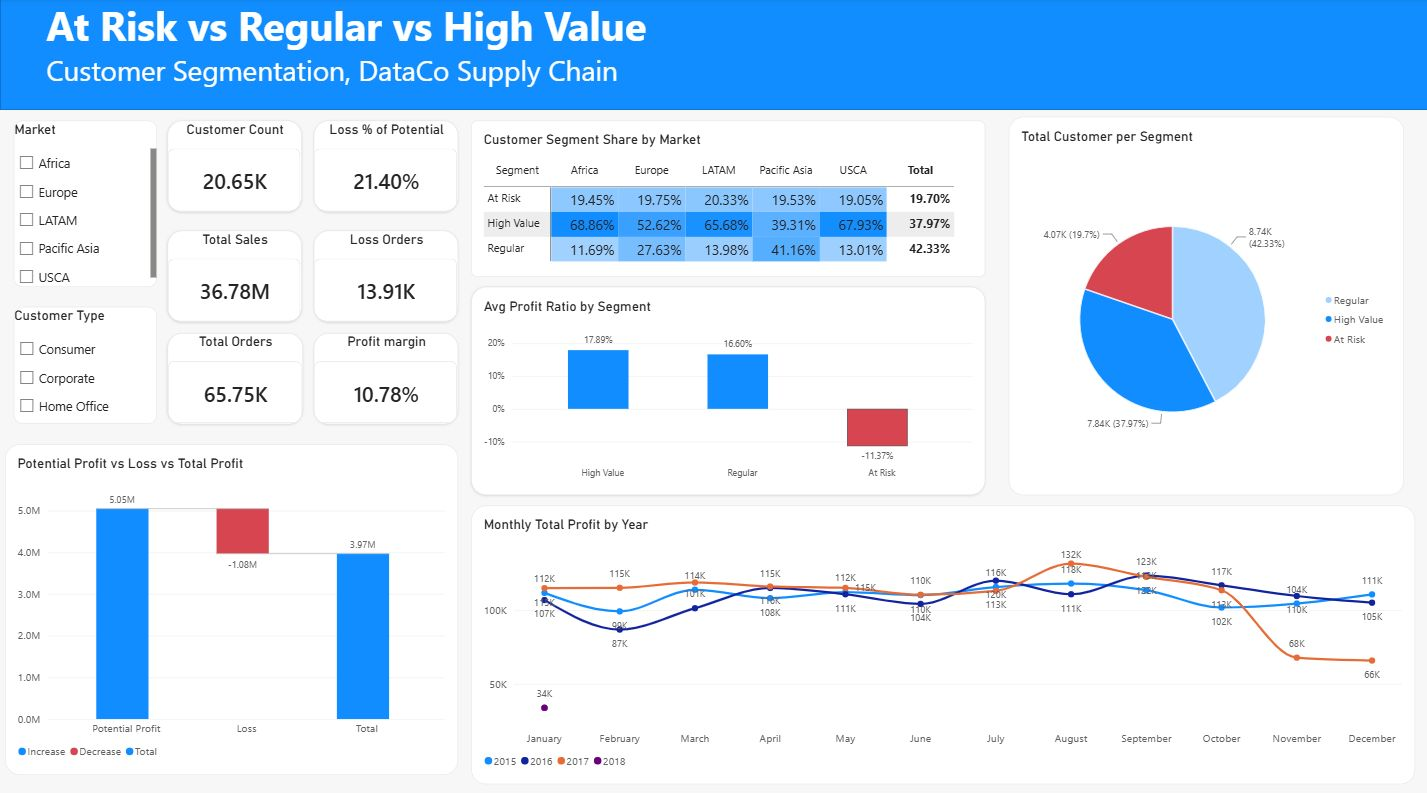

What the dashboard file says about the page in this screenshot:
{"tool":"powerbi","page":{"name":"Dashboard","canvas":[1920,1080],"ordinal":0},"visuals":[{"type":"slicer","title":"Market","fields":{"Values":["dataco_order_level_with_segment.Market"]},"box":[19.2,164,191.9,223.3],"z":0},{"type":"shape","box":[0,0,1920,150],"z":1000},{"type":"textbox","box":[20,0,1876,164],"z":2000},{"type":"cardVisual","title":"Loss % of Potential","fields":{"Data":["dataco_order_level_with_segment.Loss % of Potential"]},"box":[420.4,164,193.6,122.1],"z":3000},{"type":"cardVisual","title":"Total Sales","fields":{"Data":["dataco_order_level_with_segment.Total Sales"]},"box":[225,312.2,179.7,122.1],"z":4000},{"type":"cardVisual","title":"Loss Orders","fields":{"Data":["dataco_order_level_with_segment.Loss Order Count"]},"box":[420.4,312.2,193.6,122.1],"z":5000},{"type":"waterfallChart","title":"Potential Profit vs Loss vs Total Profit","fields":{"Category":["Waterfall Data.Item"],"Y":["Waterfall Data.Waterfall Value"]},"box":[7,598.3,607,443],"z":6000},{"type":"pieChart","title":"Total Customer per Segment","fields":{"Category":["dataco_order_level_with_segment.Final_Segment"],"Y":["dataco_order_level_with_segment.customer count"]},"box":[1351.7,159.1,529.3,507.5],"z":7000},{"type":"cardVisual","title":"Customer Count","fields":{"Data":["dataco_order_level_with_segment.customer count"]},"box":[225,164,179.7,122.1],"z":8000},{"type":"pivotTable","title":"Customer Segment Share by Market","fields":{"Rows":["dataco_order_level_with_segment.Final_Segment"],"Columns":["dataco_order_level_with_segment.Market"],"Values":["Waterfall Data.Customer % of Market"]},"box":[631.4,164,689,209.3],"z":9000},{"type":"lineChart","title":"Monthly Total Profit by Year","fields":{"Category":["dataco_order_level_with_segment.order date (DateOrders).Variation.Date Hierarchy.Month"],"Y":["dataco_order_level_with_segment.total profit"],"Series":["dataco_order_level_with_segment.order date (DateOrders).Variation.Date Hierarchy.Year"]},"box":[631.4,680.2,1264.5,373.3],"z":10000},{"type":"columnChart","title":"Avg Profit Ratio by Segment","fields":{"Category":["dataco_order_level_with_segment.Final_Segment"],"Y":["dataco_order_level_with_segment.Avg Profit Ratio"]},"box":[631.4,387.2,689,279.1],"z":11000},{"type":"cardVisual","title":"Total Orders","fields":{"Data":["dataco_order_level_with_segment.order count"]},"box":[225,448.3,181.4,122.1],"z":12000},{"type":"cardVisual","title":"Profit margin","fields":{"Data":["dataco_order_level_with_segment.Avg Profit Margin"]},"box":[420.4,448.3,193.6,122.1],"z":13000},{"type":"slicer","title":"Customer Type","fields":{"Values":["dataco_order_level_with_segment.Customer Segment"]},"box":[19.2,413.4,191.9,157],"z":13001}]}

Visuals, with their boxes in screenshot pixels (x1, y1, x2, y2), scaled from the page's 1920x1080 canvas onto the 1427x793 screenshot:
"Market" slicer: locate(14, 120, 157, 284)
shape: locate(0, 0, 1426, 110)
textbox: locate(15, 0, 1409, 120)
"Loss % of Potential" cardVisual: locate(312, 120, 456, 210)
"Total Sales" cardVisual: locate(167, 229, 301, 319)
"Loss Orders" cardVisual: locate(312, 229, 456, 319)
"Potential Profit vs Loss vs Total Profit" waterfallChart: locate(5, 439, 456, 765)
"Total Customer per Segment" pieChart: locate(1005, 117, 1398, 489)
"Customer Count" cardVisual: locate(167, 120, 301, 210)
"Customer Segment Share by Market" pivotTable: locate(469, 120, 981, 274)
"Monthly Total Profit by Year" lineChart: locate(469, 499, 1409, 774)
"Avg Profit Ratio by Segment" columnChart: locate(469, 284, 981, 489)
"Total Orders" cardVisual: locate(167, 329, 302, 419)
"Profit margin" cardVisual: locate(312, 329, 456, 419)
"Customer Type" slicer: locate(14, 304, 157, 419)
